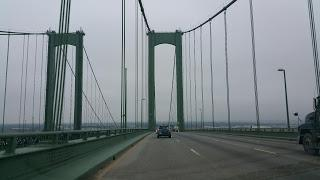car: (157, 125, 172, 138)
